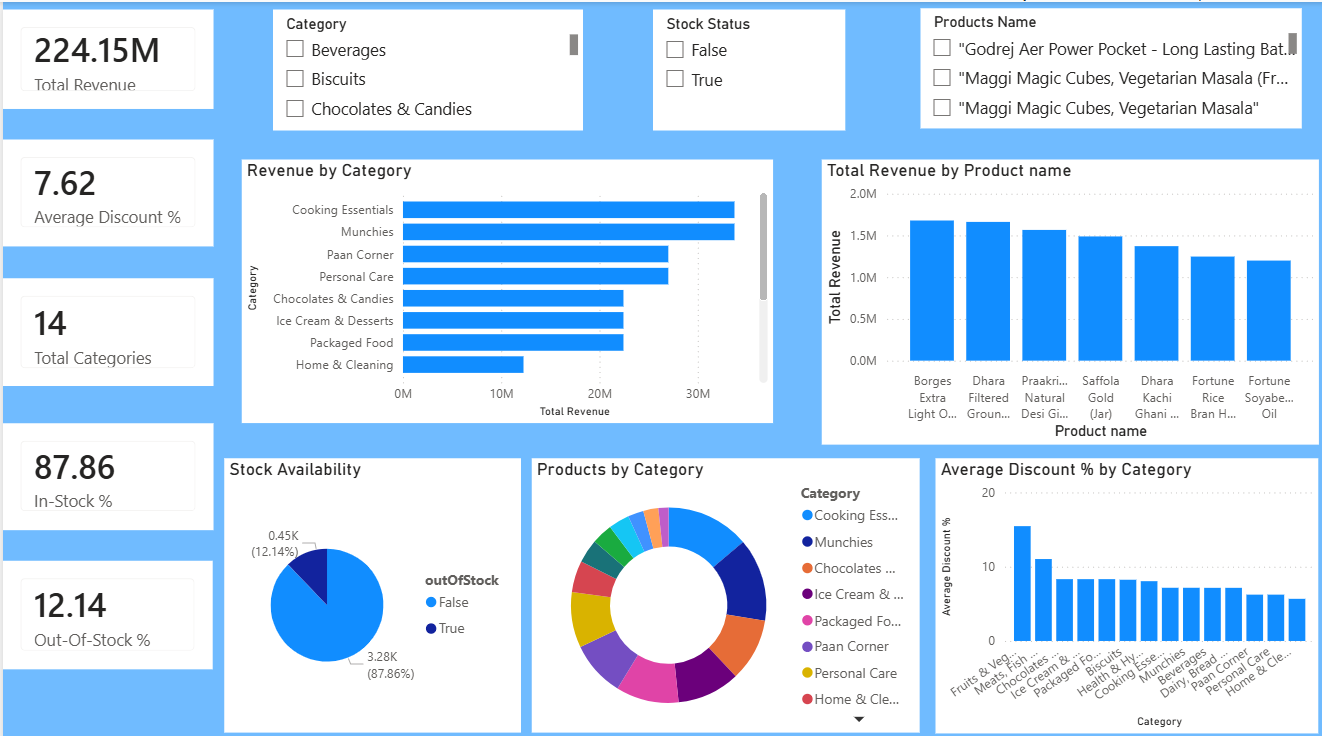

Layout of this report page (visuals, bound fields, positions):
{"tool":"powerbi","page":{"name":"Page 1","canvas":[1280,720],"ordinal":0},"visuals":[{"type":"cardVisual","fields":{"Data":["zepto_v2.Total Revenue"]},"box":[0,6.9,203.1,96.1],"z":0},{"type":"cardVisual","fields":{"Data":["zepto_v2.In-Stock %"]},"box":[0,406.2,203.1,102.9],"z":1000},{"type":"cardVisual","fields":{"Data":["zepto_v2.Total Categories"]},"box":[0,266.2,203.1,104.3],"z":2000},{"type":"cardVisual","fields":{"Data":["zepto_v2.Average Discount %"]},"box":[0,133.1,203.1,102.9],"z":3000},{"type":"cardVisual","fields":{"Data":["zepto_v2.Out-Of-Stock %"]},"box":[0,539.3,202.7,105],"z":4000},{"type":"clusteredBarChart","title":"Revenue by Category","fields":{"Y":["zepto_v2.Total Revenue"],"Category":["zepto_v2.Category"]},"box":[230.4,152,512.7,254.6],"z":5000},{"type":"columnChart","fields":{"Category":["zepto_v2.name"],"Y":["zepto_v2.Total Revenue"]},"box":[789.9,151.6,480.6,275.1],"z":6000},{"type":"pieChart","title":"Stock Availability","fields":{"Y":["CountNonNull(zepto_v2.name)"],"Category":["zepto_v2.outOfStock"]},"box":[214.1,440.5,286.8,264.8],"z":7000},{"type":"donutChart","title":"Products by Category","fields":{"Category":["zepto_v2.Category"],"Y":["CountNonNull(zepto_v2.name)"]},"box":[510.5,440.5,374.6,264.8],"z":8000},{"type":"columnChart","fields":{"Category":["zepto_v2.Category"],"Y":["zepto_v2.Average Discount %"]},"box":[900,440.2,370.5,265.4],"z":9000},{"type":"slicer","fields":{"Values":["zepto_v2.Category"]},"box":[260.7,6.9,299.1,116.6],"z":10000},{"type":"slicer","fields":{"Values":["zepto_v2.outOfStock"]},"box":[627.1,6.9,185.2,116.6],"z":11000},{"type":"slicer","fields":{"Values":["zepto_v2.name"]},"box":[885.3,6.1,368.1,116.2],"z":12000}]}

Visuals, with their boxes in screenshot pixels (x1, y1, x2, y2), scaled from the page's 1280x720 canvas onto the 1322x736 screenshot:
cardVisual - zepto_v2.Total Revenue: bbox=[0, 7, 210, 105]
cardVisual - zepto_v2.In-Stock %: bbox=[0, 415, 210, 520]
cardVisual - zepto_v2.Total Categories: bbox=[0, 272, 210, 379]
cardVisual - zepto_v2.Average Discount %: bbox=[0, 136, 210, 241]
cardVisual - zepto_v2.Out-Of-Stock %: bbox=[0, 551, 209, 659]
"Revenue by Category" clusteredBarChart: bbox=[238, 155, 767, 416]
columnChart - zepto_v2.name x zepto_v2.Total Revenue: bbox=[816, 155, 1312, 436]
"Stock Availability" pieChart: bbox=[221, 450, 517, 721]
"Products by Category" donutChart: bbox=[527, 450, 914, 721]
columnChart - zepto_v2.Category x zepto_v2.Average Discount %: bbox=[930, 450, 1312, 721]
slicer - zepto_v2.Category: bbox=[269, 7, 578, 126]
slicer - zepto_v2.outOfStock: bbox=[648, 7, 839, 126]
slicer - zepto_v2.name: bbox=[914, 6, 1295, 125]
